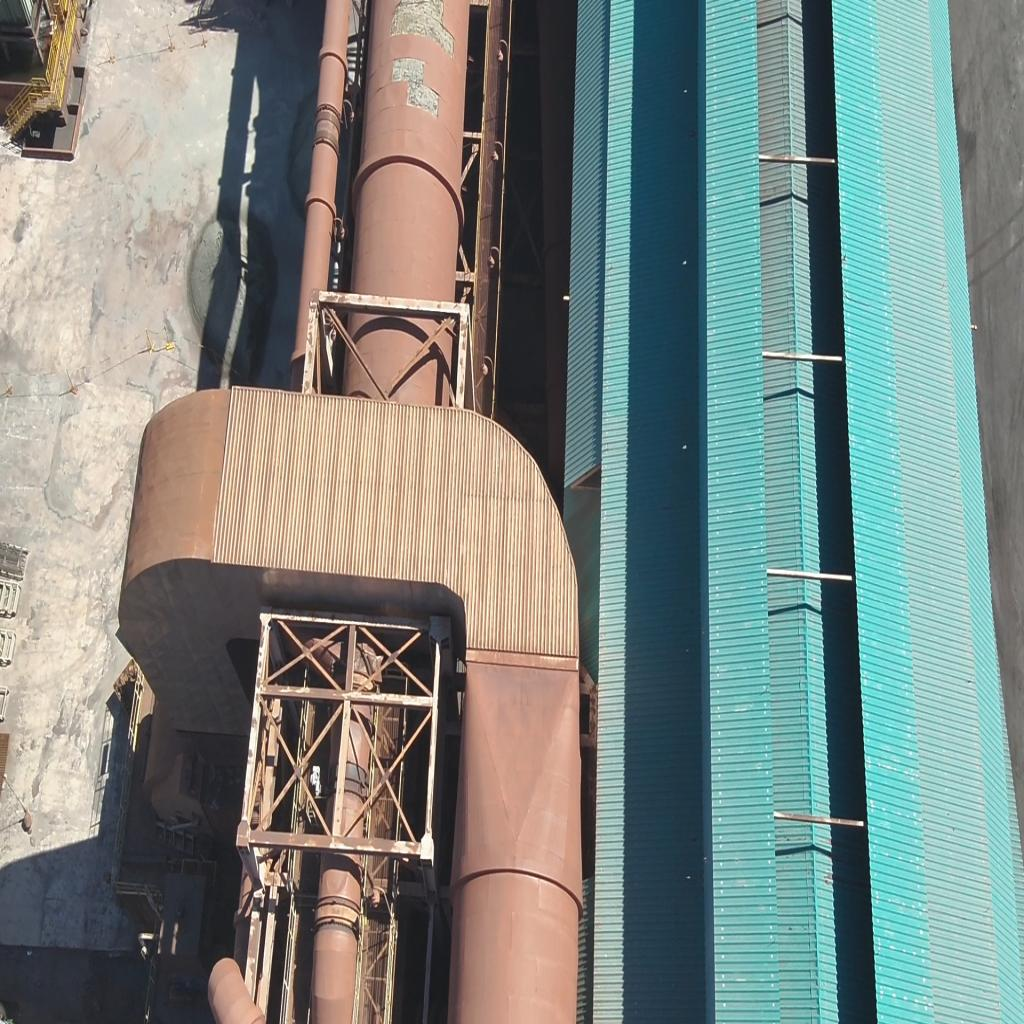Failures: (392, 0, 454, 58), (408, 80, 440, 118), (392, 57, 423, 84)
